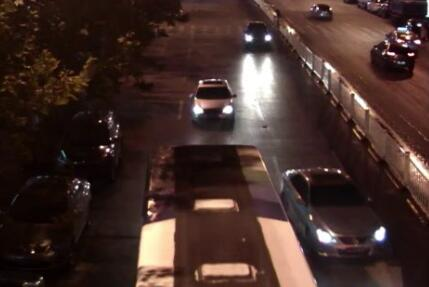bus: (127, 141, 321, 284)
car: (277, 163, 391, 263), (0, 168, 97, 272), (52, 102, 124, 173), (185, 76, 238, 127), (367, 33, 419, 77), (240, 17, 274, 53), (309, 2, 334, 22)
